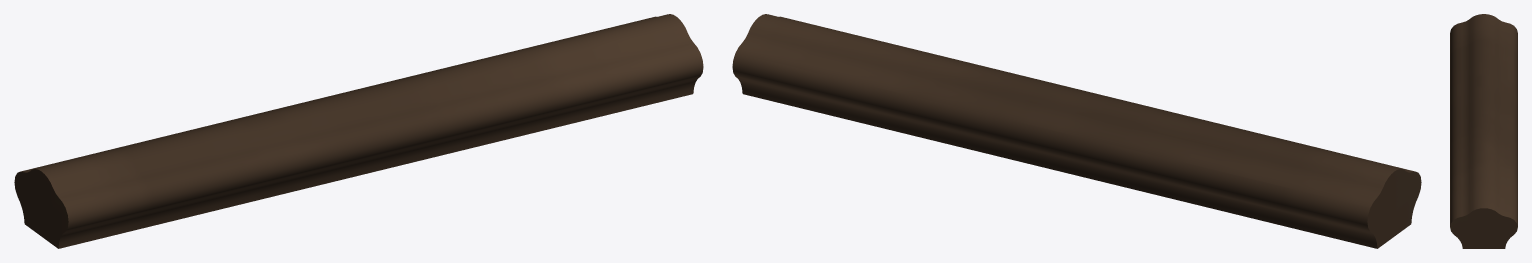
Rendered from handrail.glb.
3 renders of one model, left to right at view 1: azimuth 30°, elevation 25°; view 2: azimuth 150°, elevation 25°; view 3: azimuth 270°, elevation 25°, orthographic. The views are drawn at different scales.
Parts seen in each view (by area): view 1: handrail; view 2: handrail; view 3: handrail.
Boxes of the visible parts, bbox=[...] form: handrail: bbox=[14, 14, 703, 248]; handrail: bbox=[732, 14, 1421, 248]; handrail: bbox=[1450, 14, 1517, 248].
Bounding box in the file's own units: 0.5 × 0.049 × 0.0739.
Materials: 1 (1 with a texture image).
